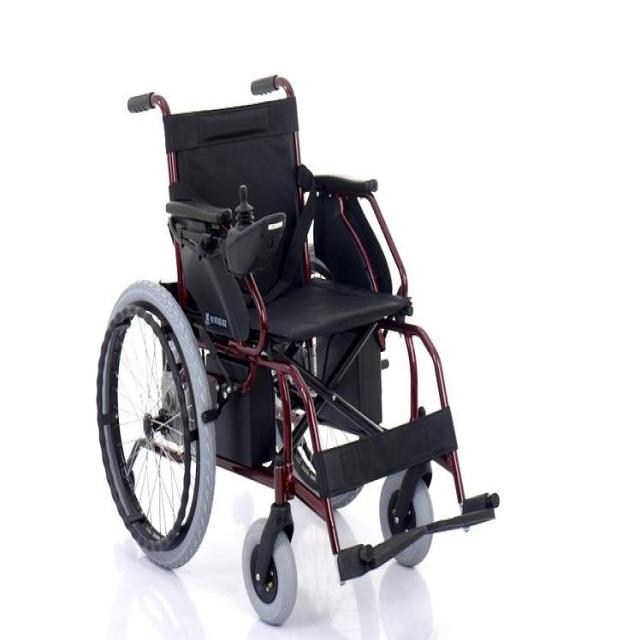wheelchairs: (77, 48, 513, 632)
